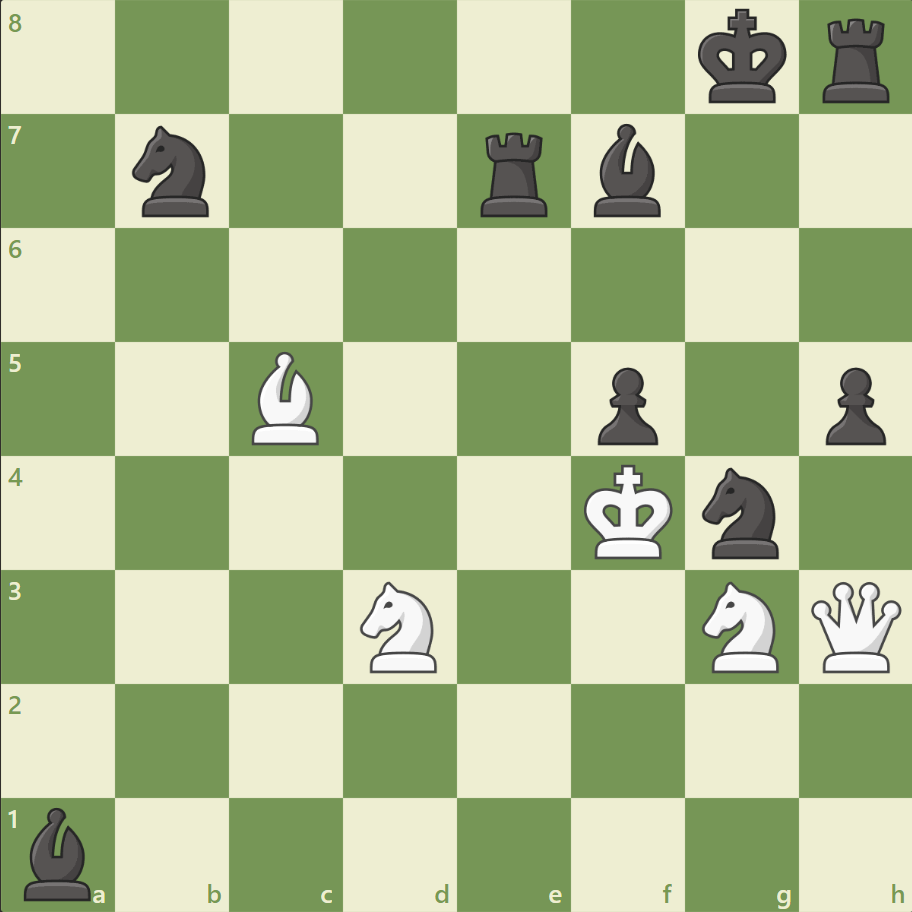B: (244, 347, 328, 449)
K: (579, 458, 679, 566)
N: (351, 575, 449, 677), (692, 575, 789, 677)
Q: (805, 576, 904, 676)
b: (17, 801, 101, 904), (585, 120, 669, 222)
k: (692, 4, 792, 112)
n: (124, 121, 222, 223), (692, 461, 789, 564)
p: (588, 359, 662, 450), (815, 359, 889, 450)
r: (814, 12, 897, 109), (473, 125, 556, 222)
